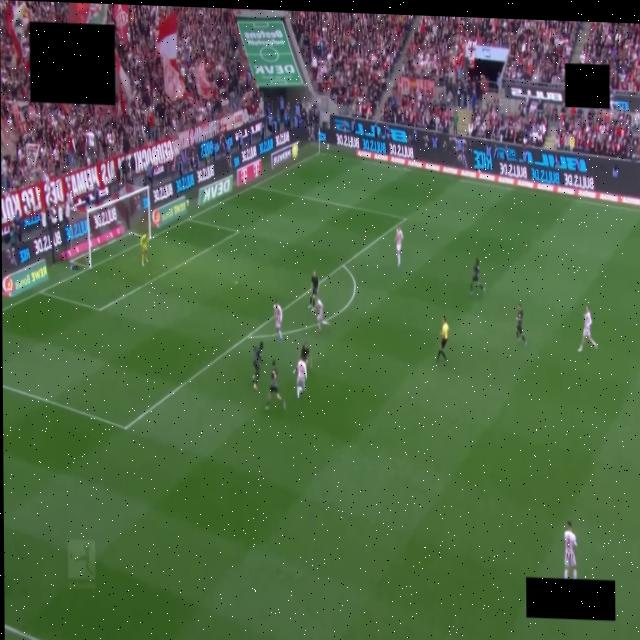player: (265, 361, 284, 409), (577, 307, 596, 351), (564, 521, 576, 579), (469, 258, 484, 294), (253, 342, 263, 389), (515, 304, 525, 346), (308, 271, 318, 311), (296, 359, 306, 399), (316, 299, 327, 331), (273, 300, 281, 342), (395, 227, 403, 266), (299, 342, 311, 366), (300, 342, 311, 367), (140, 233, 147, 266)
referee: (436, 318, 447, 362)
